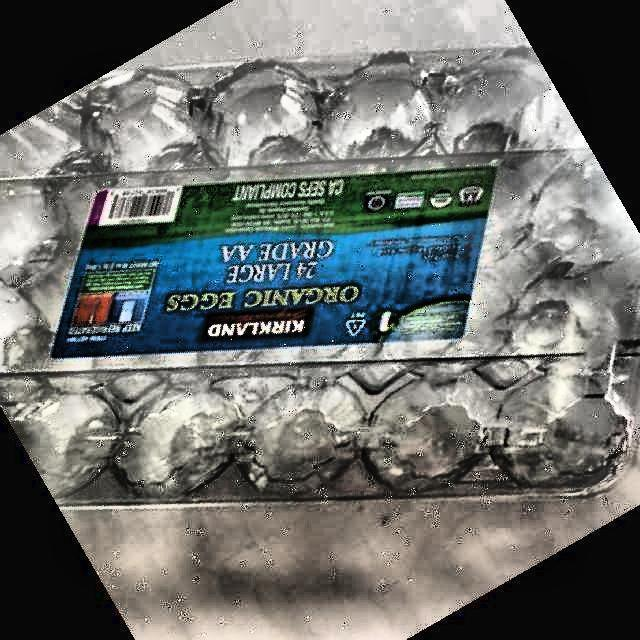plastic: (0, 49, 640, 503)
